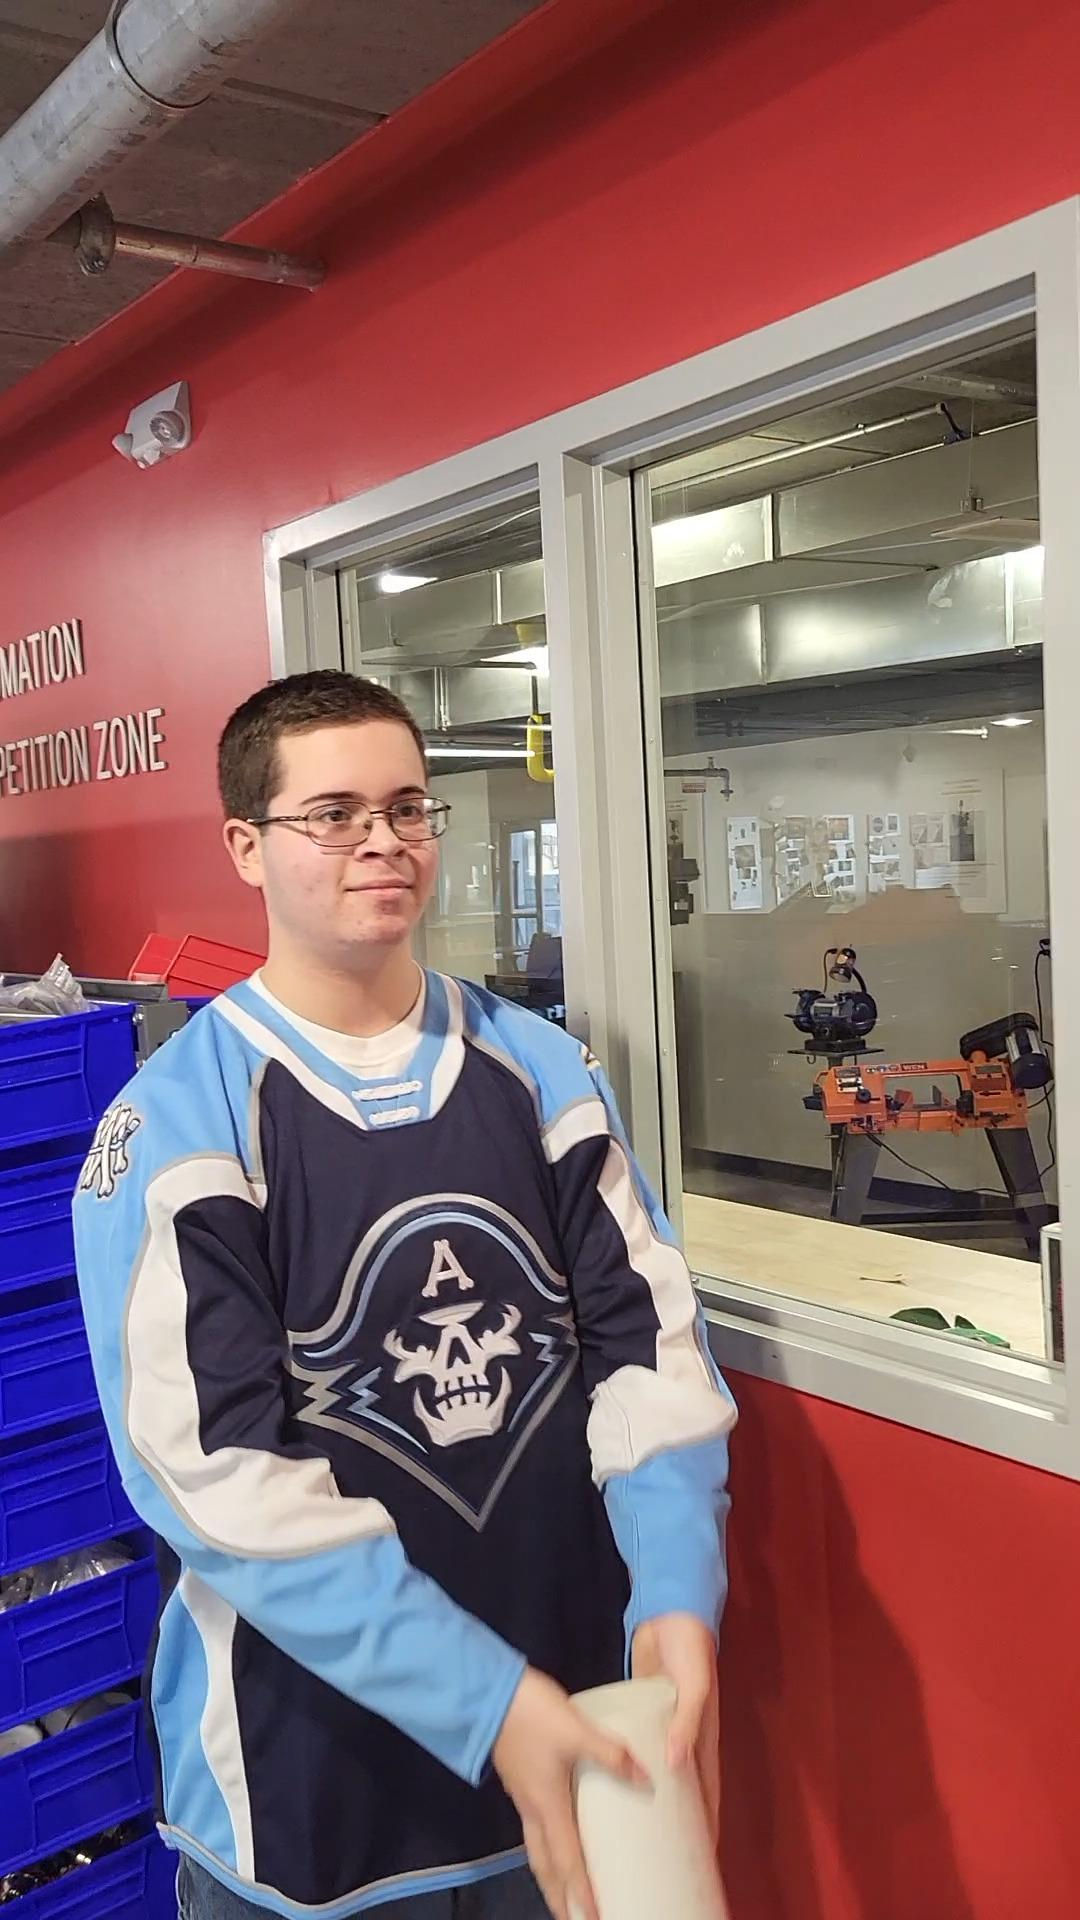coral: (530, 1667, 750, 1920)
